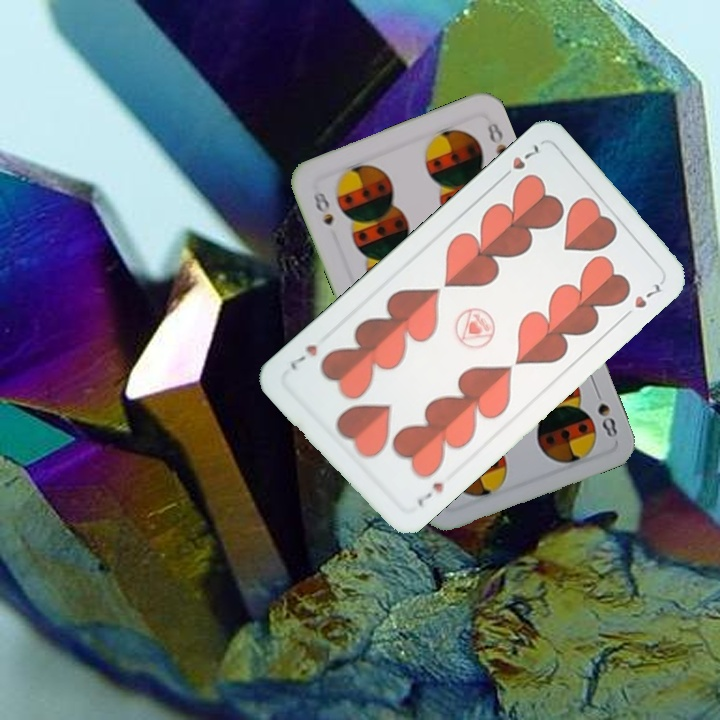H7: (495, 139, 544, 184), (412, 478, 446, 510)
S8: (590, 383, 620, 441), (309, 188, 337, 229)
